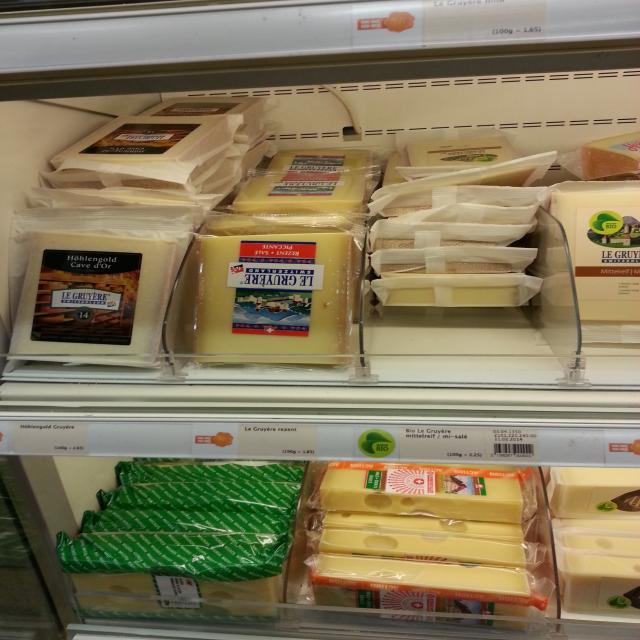Cheese: (0, 222, 178, 364), (58, 524, 281, 624), (196, 234, 356, 366), (304, 550, 540, 630), (319, 460, 531, 520), (553, 180, 640, 320), (48, 114, 224, 164), (233, 172, 370, 216), (550, 552, 640, 617), (546, 466, 640, 514), (404, 132, 520, 167), (136, 96, 268, 120), (584, 130, 640, 178), (262, 149, 379, 170)
